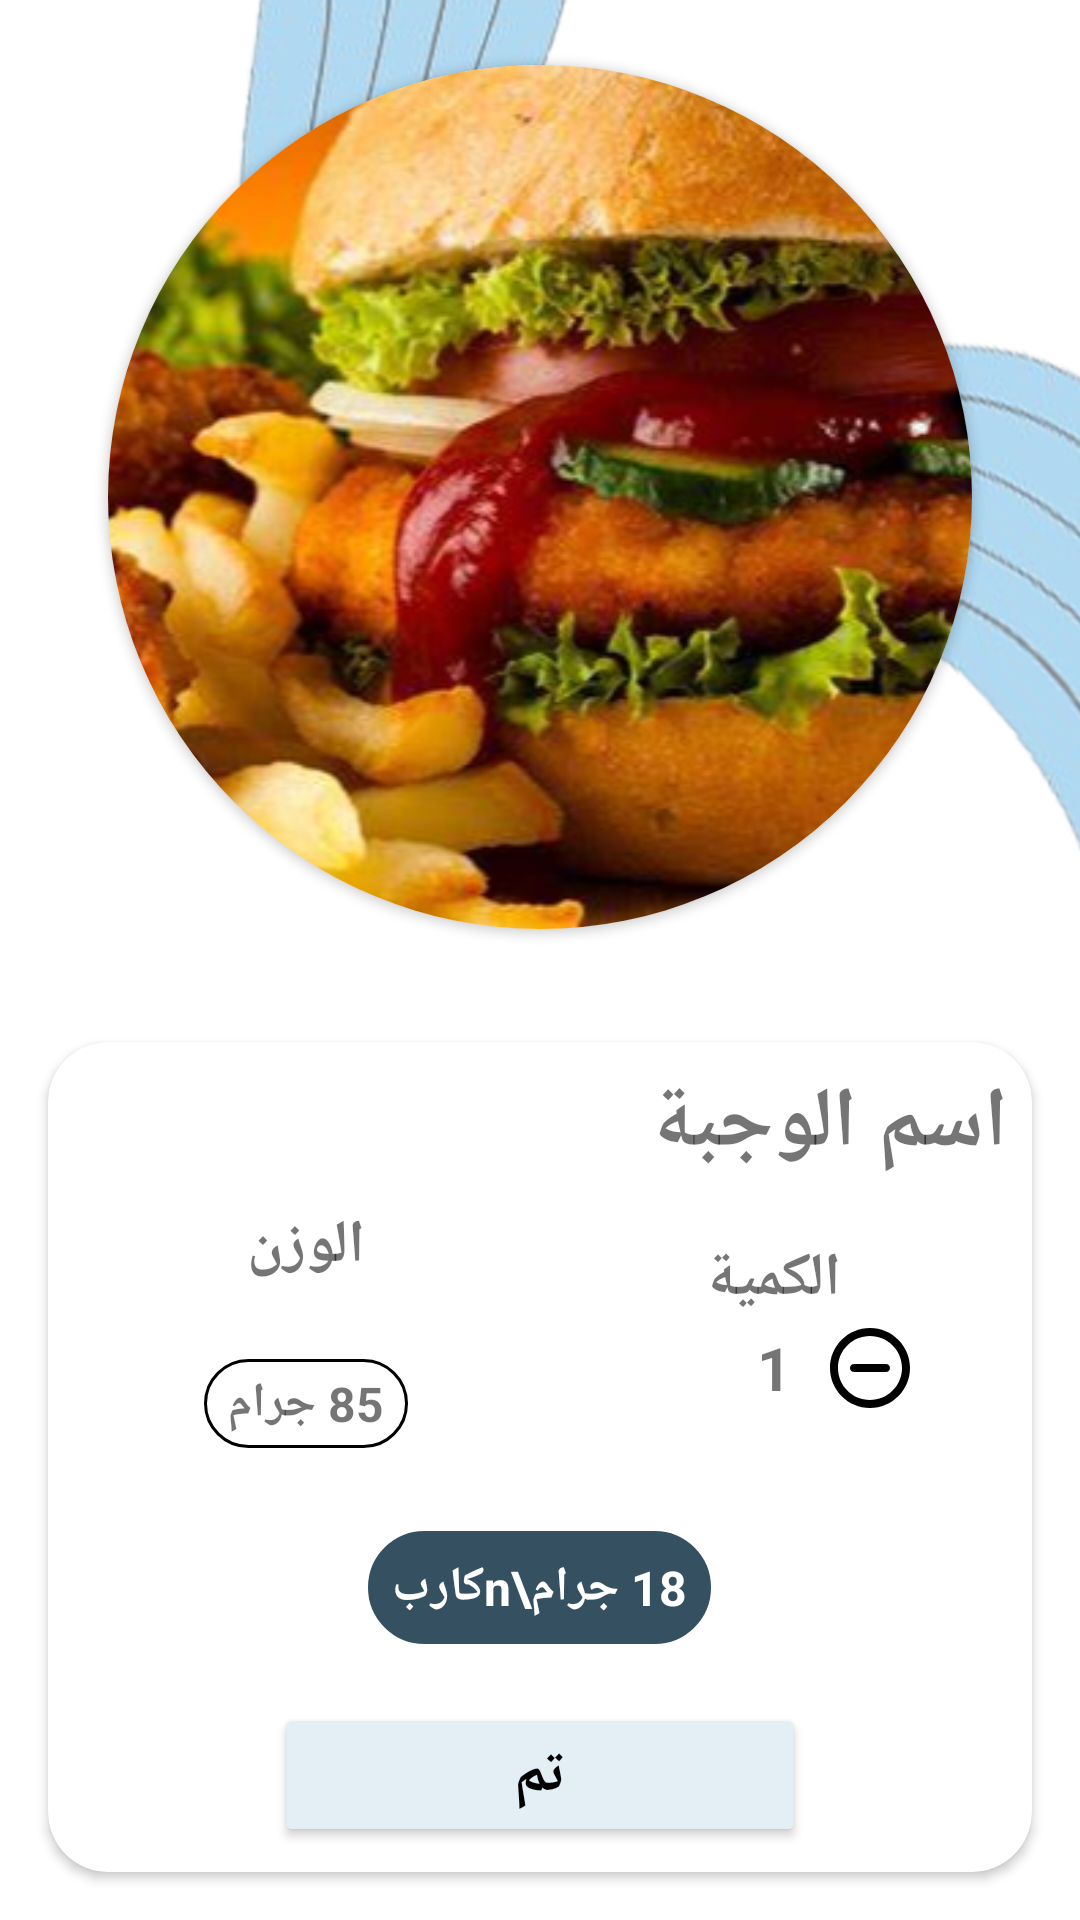

Point at icon controls on the screen. Image size 1080 × 1920, points as [x,y].
minus: [870,1368]
